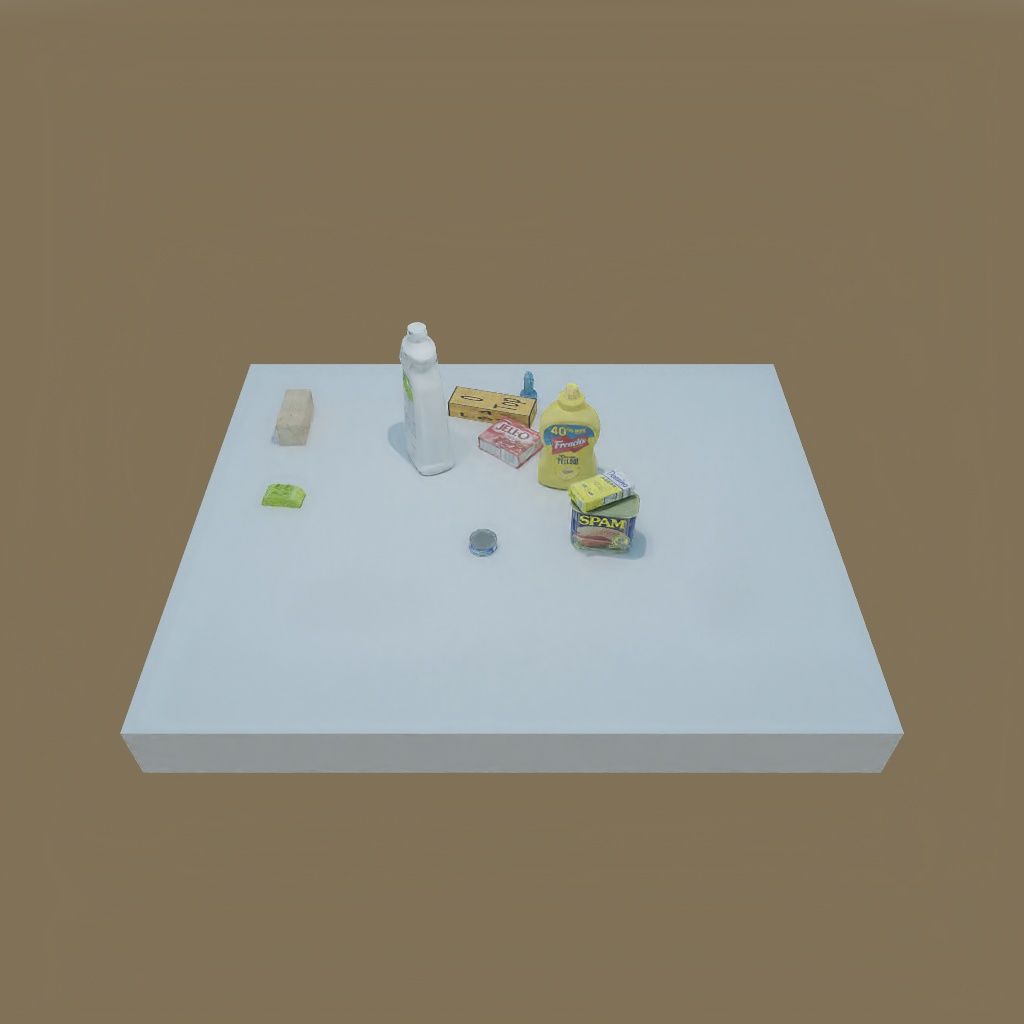gelatin_box: (479, 419, 546, 469)
jenga: (449, 380, 534, 429)
mustard_bottle: (536, 384, 599, 494)
potted_meat_can: (569, 491, 640, 556)
wood_block: (274, 388, 317, 450)
